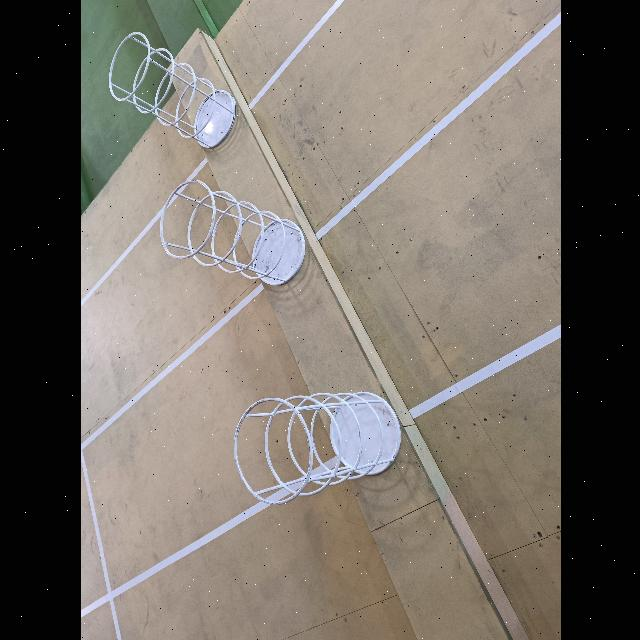S: (234, 391, 402, 503), (159, 180, 307, 286), (108, 30, 236, 148)
